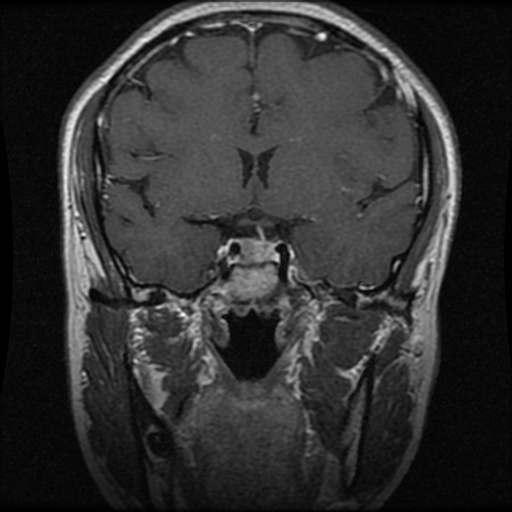pituitary: (242, 238, 274, 261)
